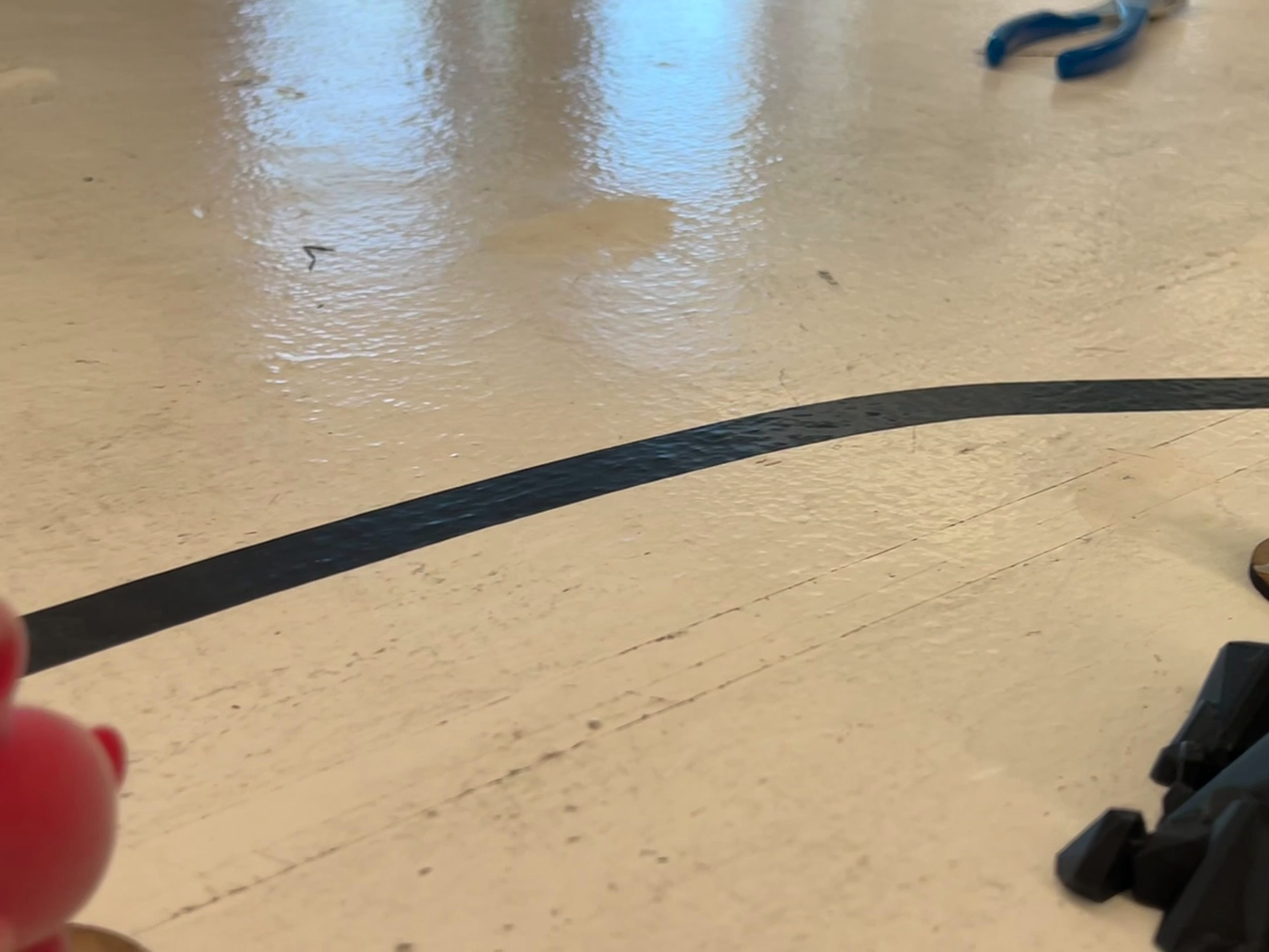teletubby: (0, 604, 126, 951)
